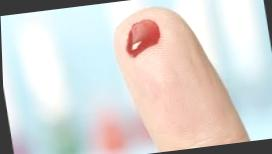Fire: (125, 19, 160, 57)
